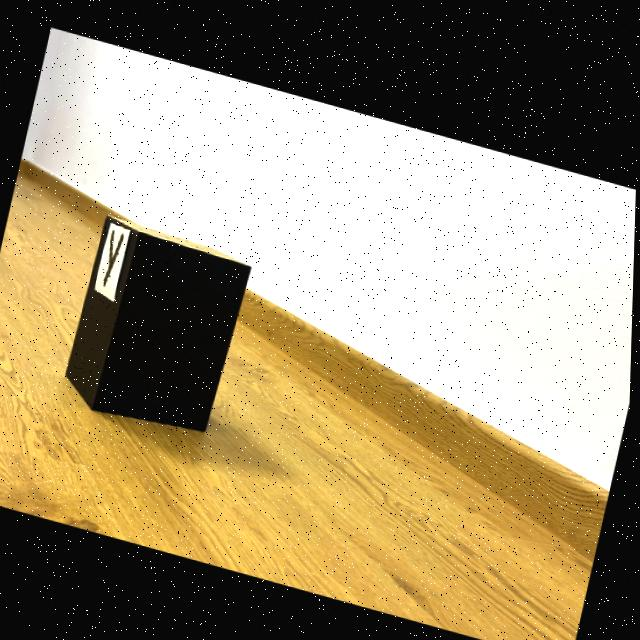Y: (105, 229, 125, 284)
